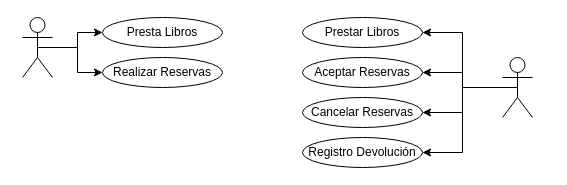
Some shapes in this 567 by 185 pixel diagram are drawn without their labels. The centre of each missing label's shape, as x and y in pixels:
"Bibliotecario" goes at pixel 517 87.
"Usuario" goes at pixel 37 47.
